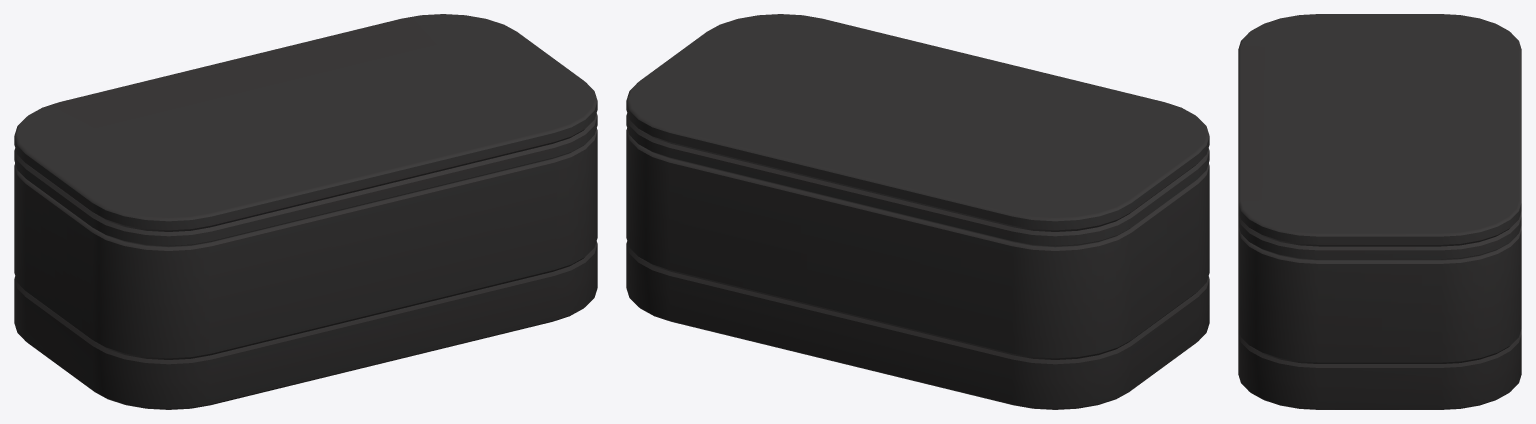
Rendered from Checker_Box_01.glb.
3 renders of one model, left to right at view 1: azimuth 30°, elevation 25°; view 2: azimuth 150°, elevation 25°; view 3: azimuth 270°, elevation 25°, orthographic. The views are drawn at different scales.
Visible parts, largest first — view 1: Checker_Box_01, Checker_Box_Cup_01; view 2: Checker_Box_01, Checker_Box_Cup_01; view 3: Checker_Box_Cup_01, Checker_Box_01.
Boxes of the visible parts, bbox=[...] form: Checker_Box_01: bbox=[14, 128, 597, 409]; Checker_Box_Cup_01: bbox=[14, 14, 597, 247]; Checker_Box_01: bbox=[626, 128, 1209, 409]; Checker_Box_Cup_01: bbox=[626, 14, 1209, 247]; Checker_Box_Cup_01: bbox=[1238, 14, 1521, 260]; Checker_Box_01: bbox=[1238, 226, 1521, 409].
Size of the model in its own units: 0.1689 by 0.0629 by 0.0913.
1 material, 1 textured.
